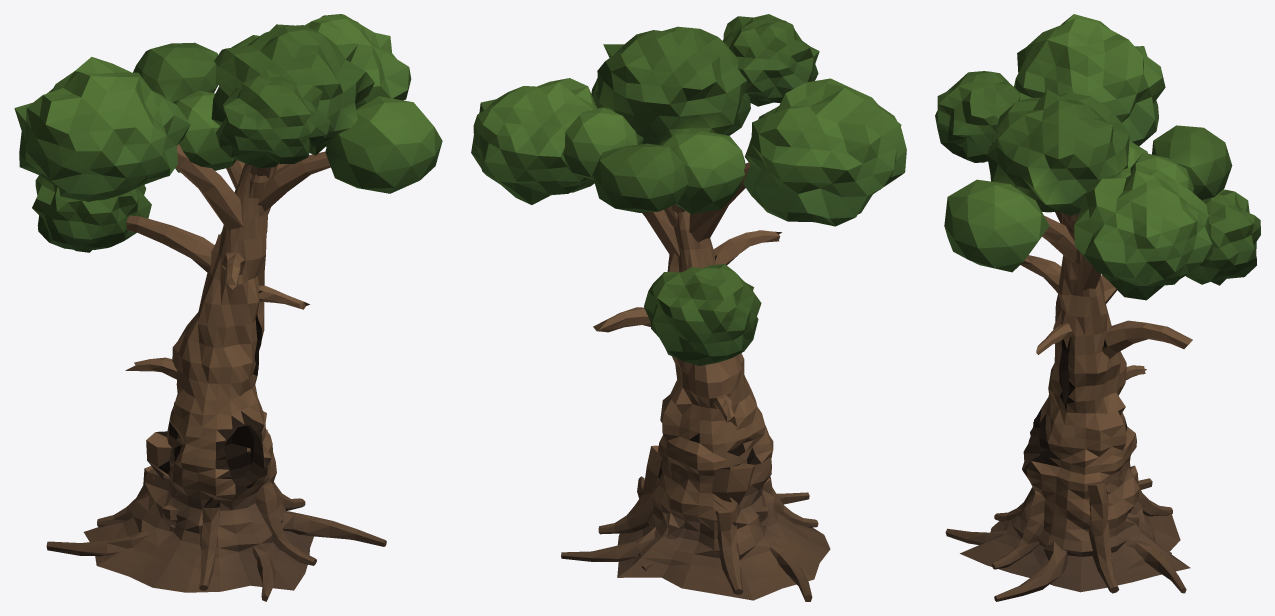
The model's file is hollow-tree.BACKUP.glb.
3 renders of one model, left to right at view 1: azimuth 30°, elevation 25°; view 2: azimuth 150°, elevation 25°; view 3: azimuth 270°, elevation 25°, orthographic. The views are drawn at different scales.
Visible parts, largest first — view 1: canopy_foliage, trunk; view 2: canopy_foliage, trunk; view 3: canopy_foliage, trunk.
Boxes of the visible parts, left/top/right/bottom form: canopy_foliage: left=14, top=14, right=442, bottom=252; trunk: left=46, top=144, right=386, bottom=601; canopy_foliage: left=471, top=14, right=906, bottom=365; trunk: left=561, top=162, right=830, bottom=601; canopy_foliage: left=935, top=14, right=1260, bottom=300; trunk: left=945, top=211, right=1192, bottom=601.
Bounding box in the file's own units: 60.36 × 74 × 45.65.
